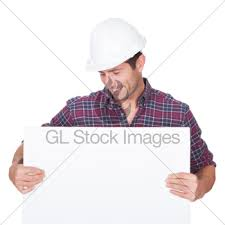Person_wearing_helmet: (85, 14, 152, 81)
